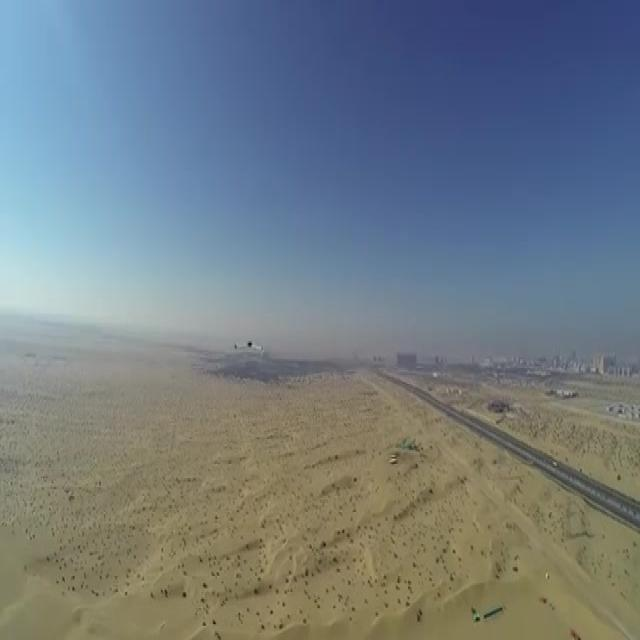iha: (234, 340, 264, 353)
